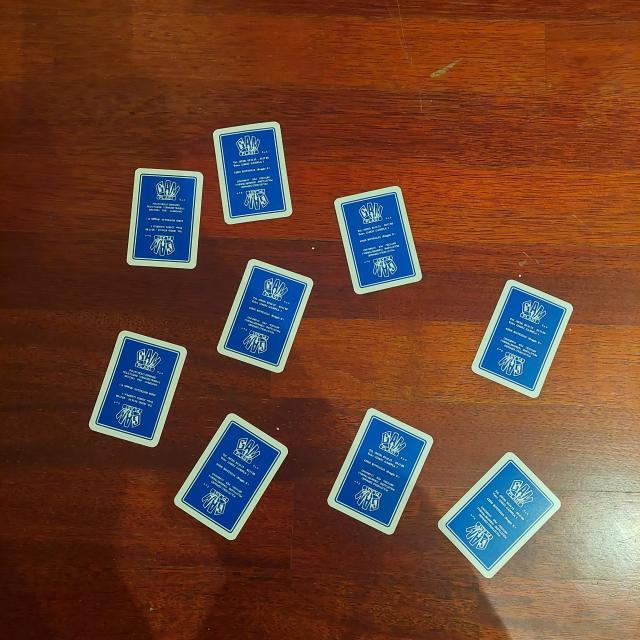card: (438, 448, 563, 580), (171, 411, 291, 543), (326, 406, 434, 535), (471, 278, 575, 402), (88, 329, 188, 449), (217, 257, 315, 375), (331, 182, 426, 298), (210, 119, 296, 226), (124, 168, 203, 272)
